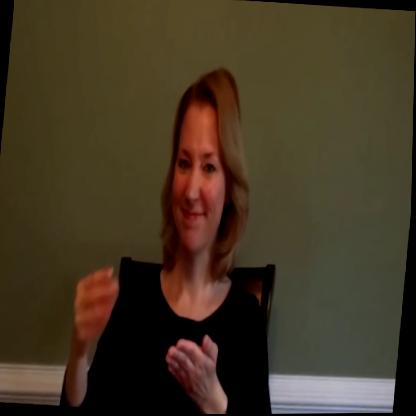Expensive: (62, 247, 227, 416)
